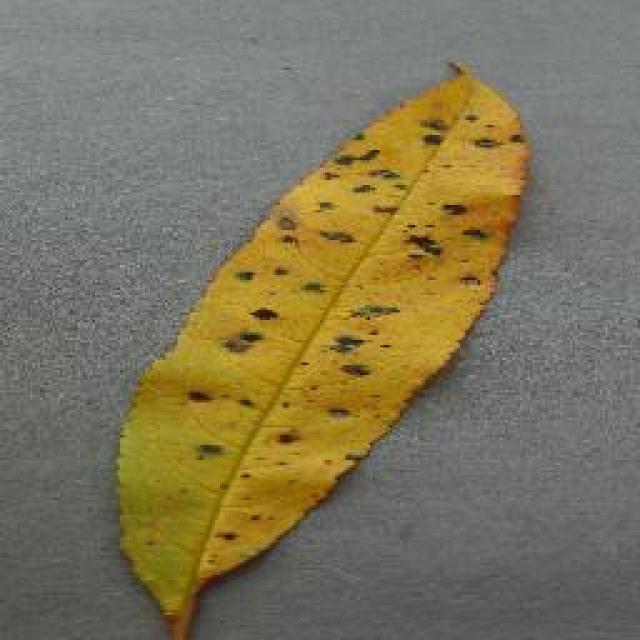Peach_Bacterial_Spot: (234, 68, 468, 492)
